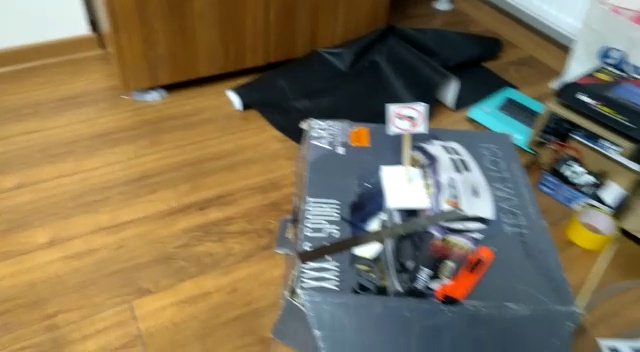sola_donulmez: (388, 104, 425, 133)
